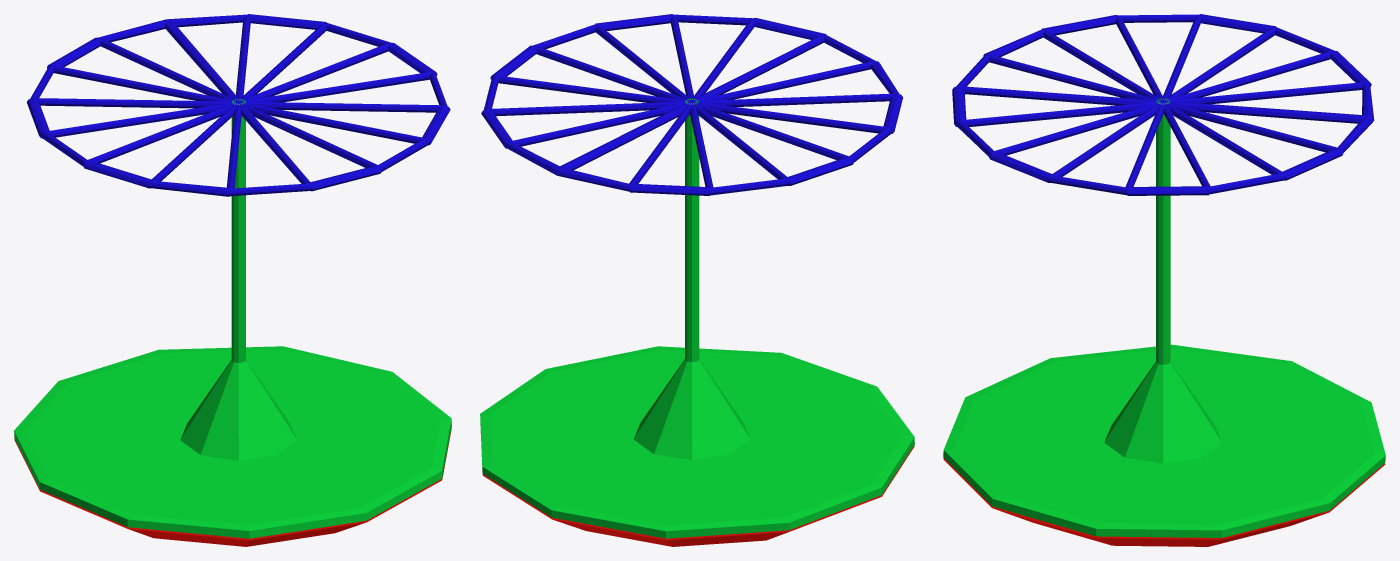
File: new_waterbench_collider_230221.fbx
The picture shows the model from 3 angles, left to right: view 1: azimuth 30°, elevation 25°; view 2: azimuth 150°, elevation 25°; view 3: azimuth 270°, elevation 25°; orthographic projection.
Visible parts, largest first — view 1: new_caketown.002; view 2: new_caketown.002; view 3: new_caketown.002.
Boxes of the visible parts, bbox=[...] form: new_caketown.002: bbox=[14, 14, 451, 546]; new_caketown.002: bbox=[480, 14, 914, 546]; new_caketown.002: bbox=[943, 14, 1385, 546].
Size of the model in its own units: 331 by 314 by 333.
